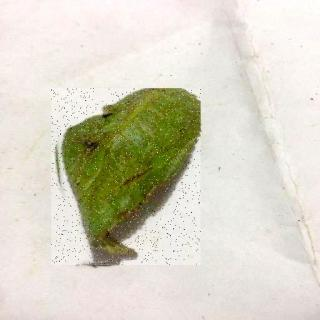Red Leaf Spot: (52, 89, 202, 266)
